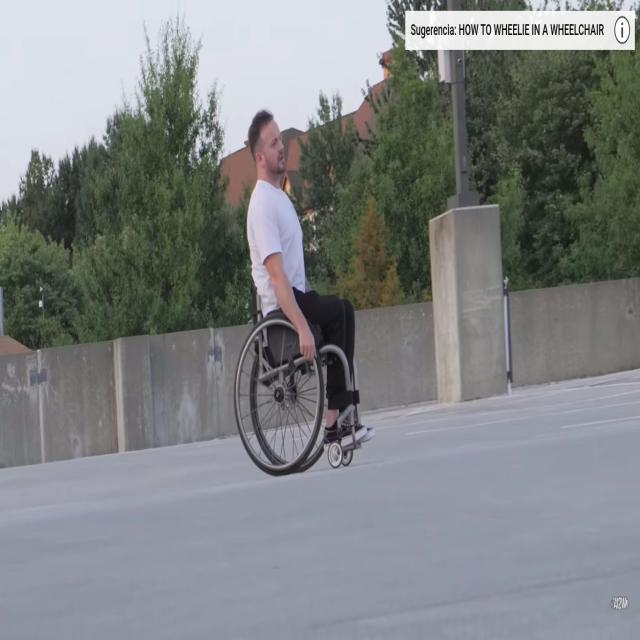wheelchairs: (232, 305, 359, 485)
